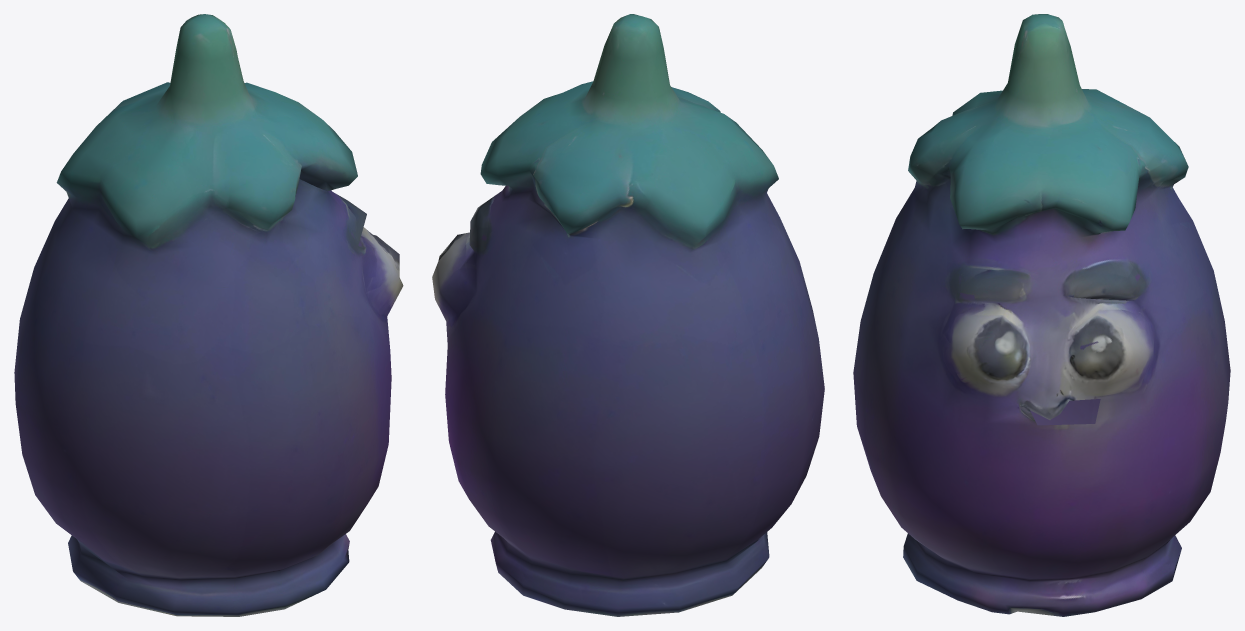
File: FifthAmmo.fbx
3 renders of one model, left to right at view 1: azimuth 30°, elevation 25°; view 2: azimuth 150°, elevation 25°; view 3: azimuth 270°, elevation 25°, orthographic.
Visible parts, largest first — view 1: tripo_node_8a5d3a8b; view 2: tripo_node_8a5d3a8b; view 3: tripo_node_8a5d3a8b.
Part boxes in pixels (box(x1,y1,x2,y2)): tripo_node_8a5d3a8b: box(14, 14, 403, 616); tripo_node_8a5d3a8b: box(432, 14, 824, 616); tripo_node_8a5d3a8b: box(853, 14, 1230, 616).
Size of the model in its own units: 0.6502 by 0.9991 by 0.6256.
1 material, 1 textured.
